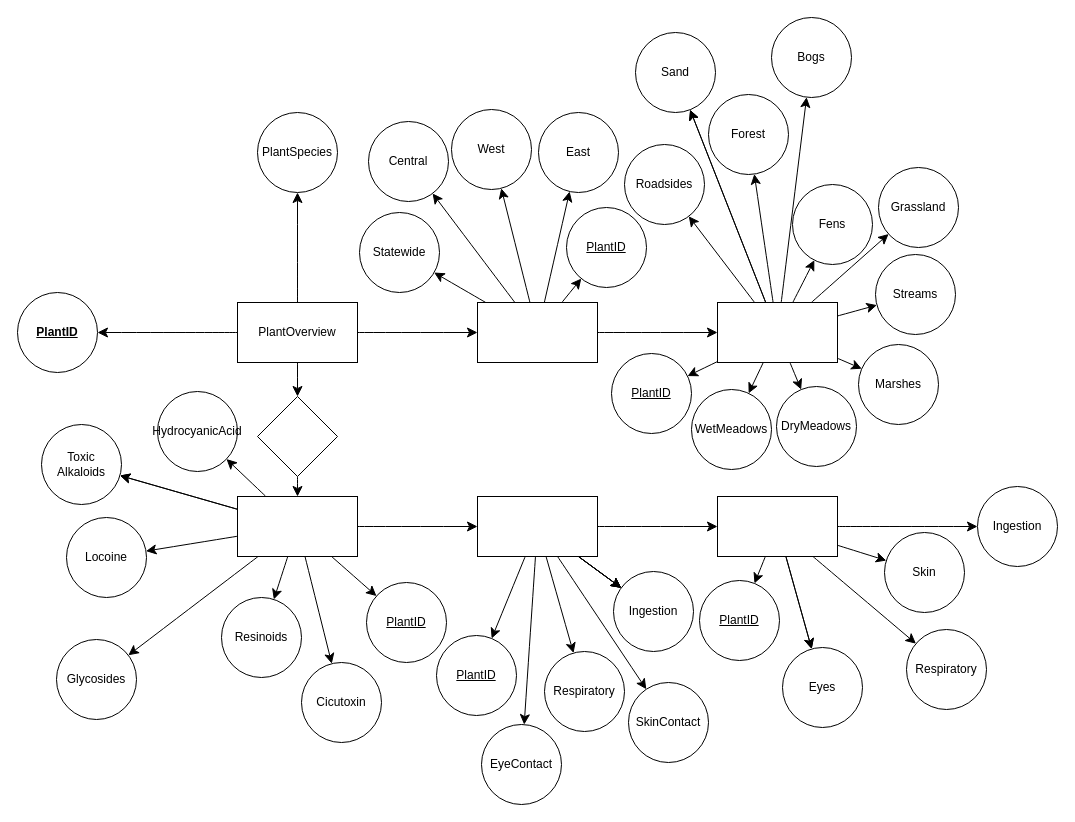
Some shapes in this 1075 by 822 pixel diagram are drawn without their labels. The centre of each missing label's shape, as x and y in pixels:
"Area Found" goes at point 537,332.
"Contains" goes at point 297,436.
"Ecosystem" goes at point 777,332.
"ExposureDangerous" goes at point 537,526.
"ExposureProtocol" goes at point 777,526.
"PoisonousCompound" goes at point 297,526.
